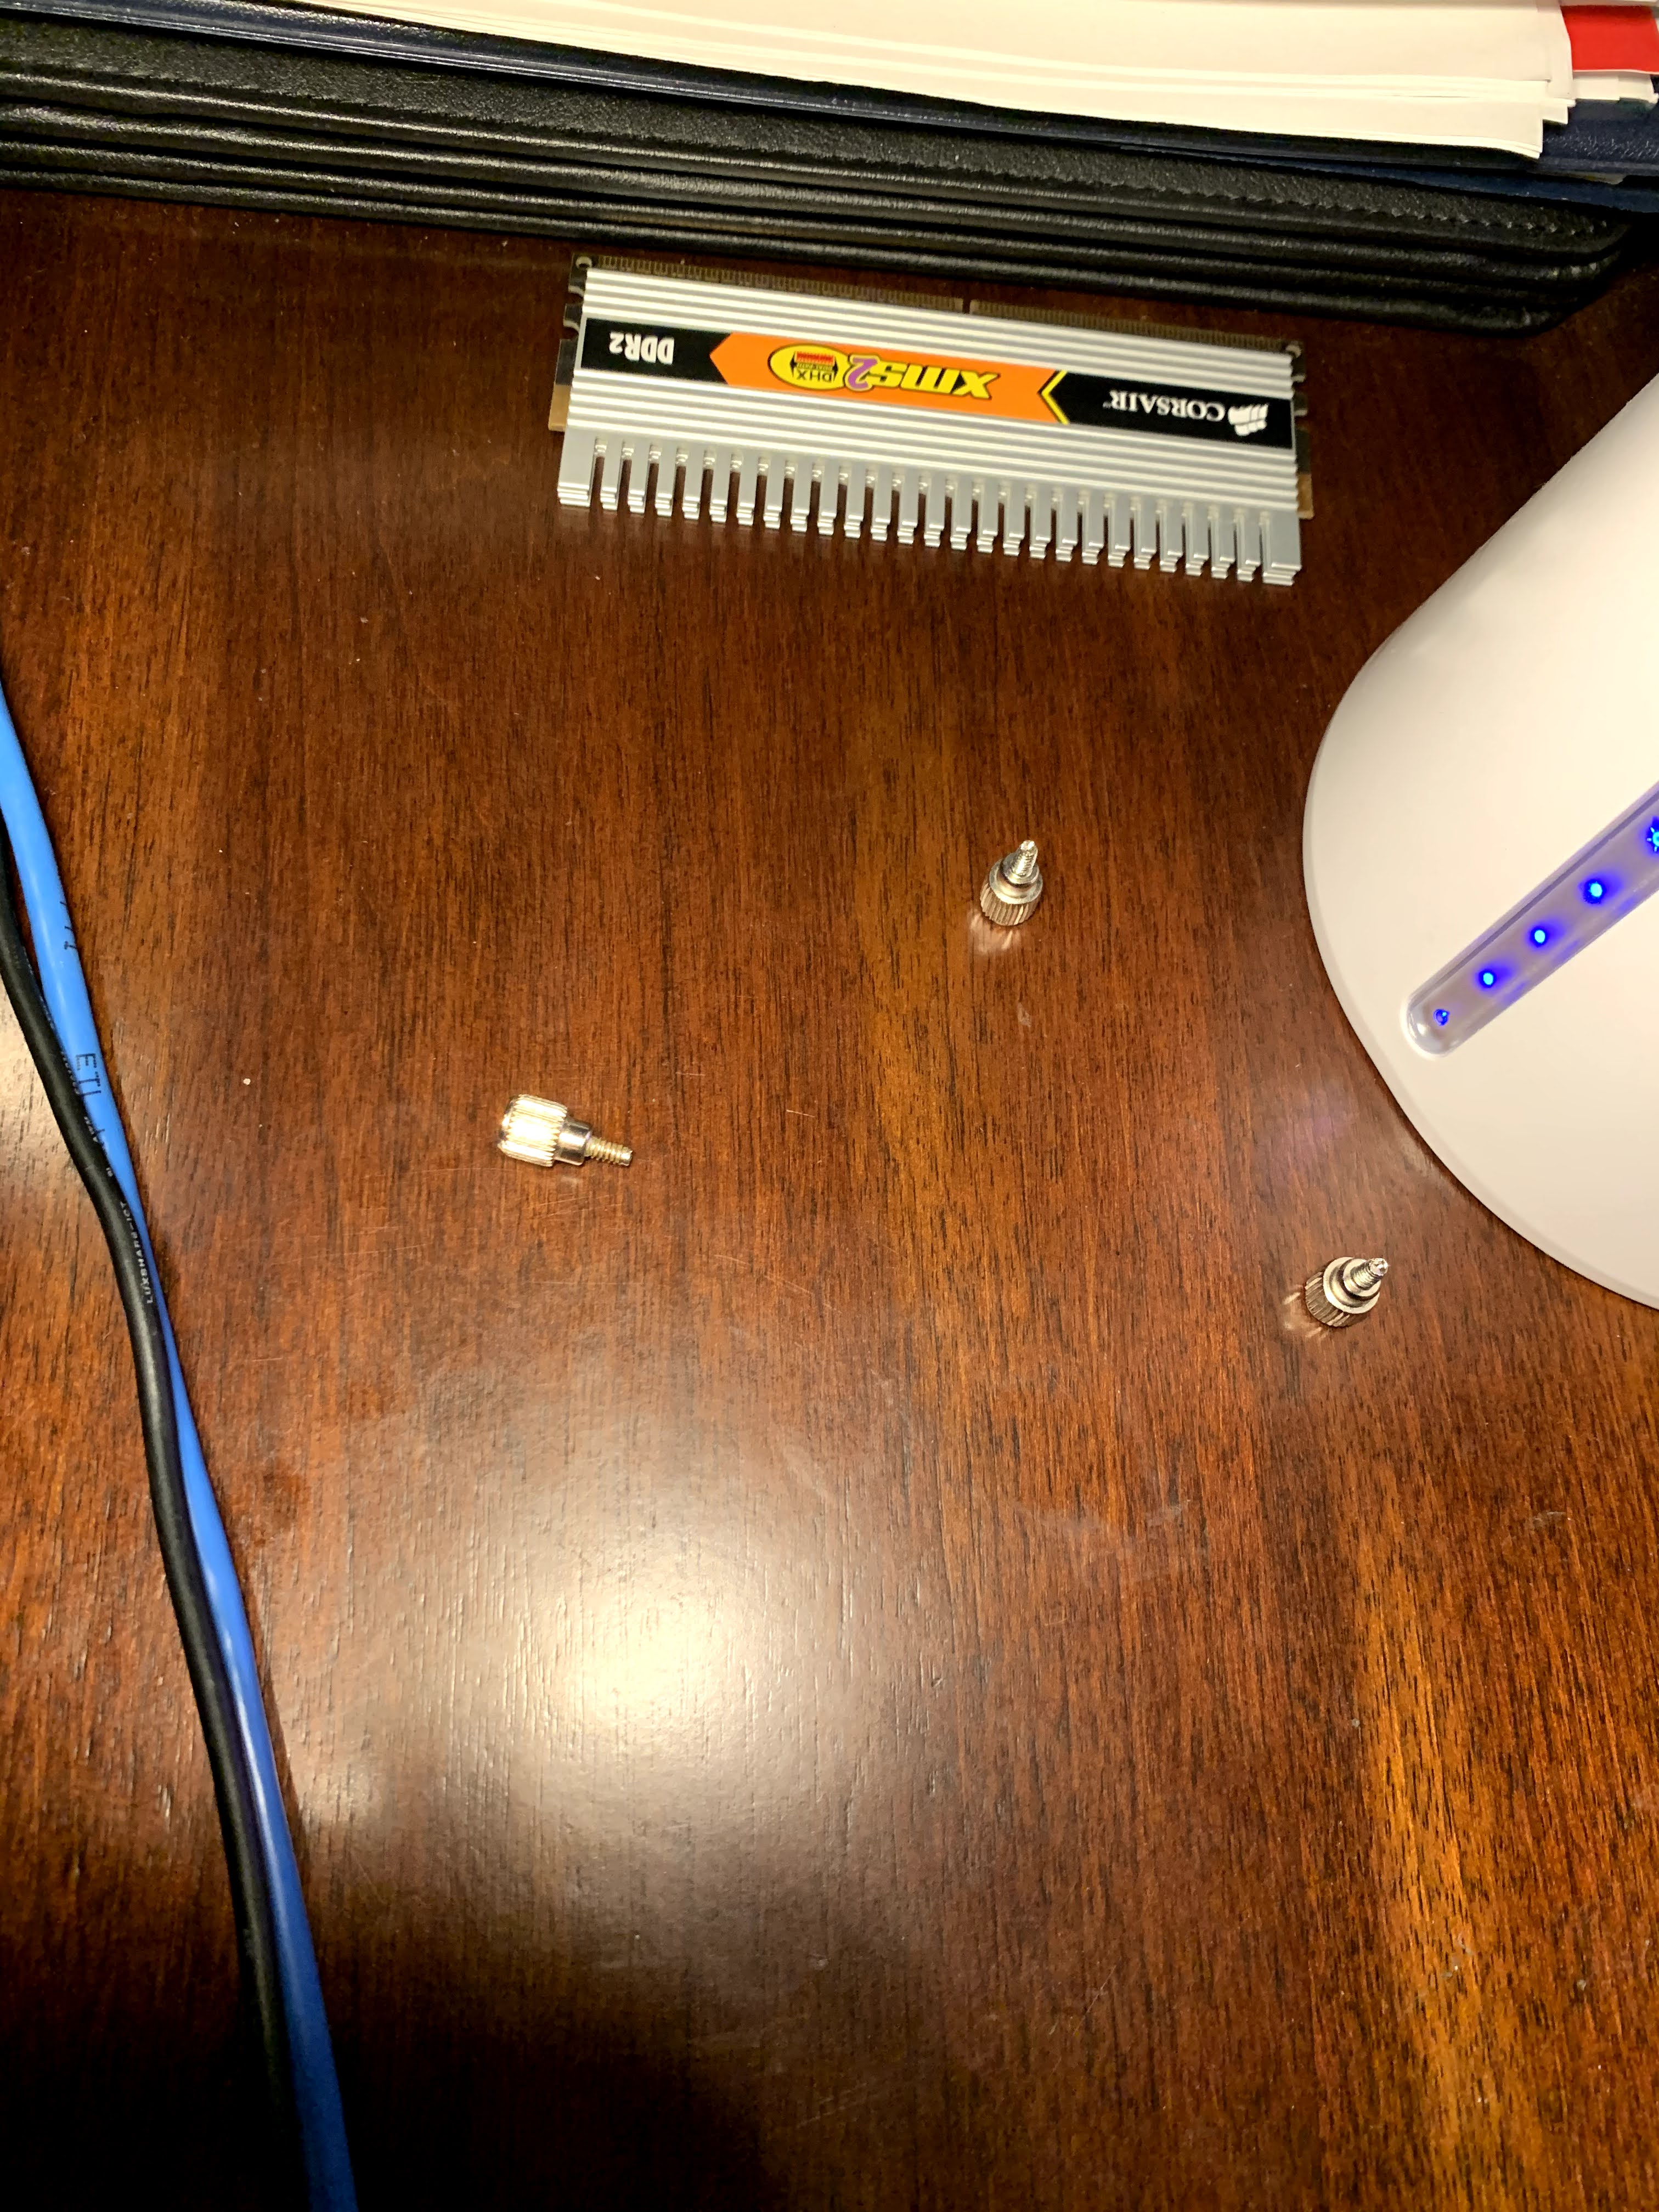Space-debris-medium: (538, 237, 1344, 613)
Space-debris-small: (484, 1073, 645, 1183), (976, 817, 1058, 939), (1300, 1249, 1396, 1345)
